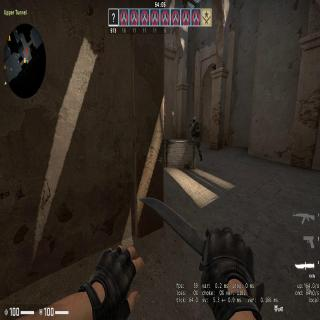CT-Body: (188, 116, 204, 158)
CT-Head: (192, 117, 198, 123)
